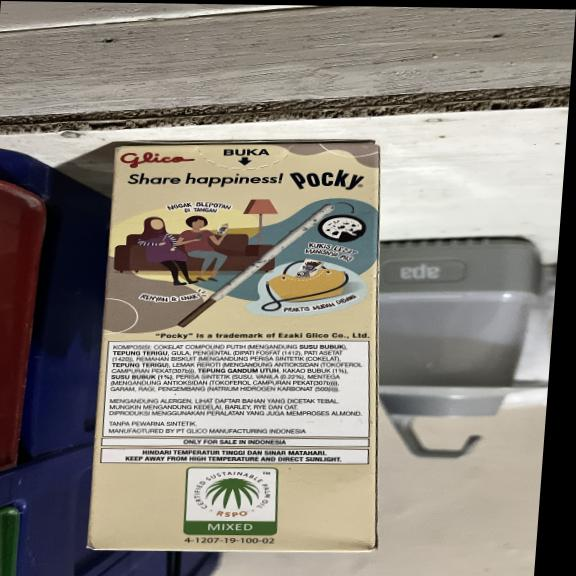Kertas: (88, 141, 381, 554)
